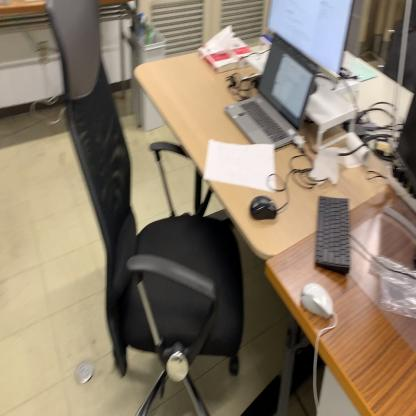chair: (46, 2, 246, 409)
